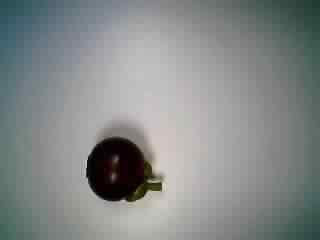mangosteen: (84, 135, 163, 207)
